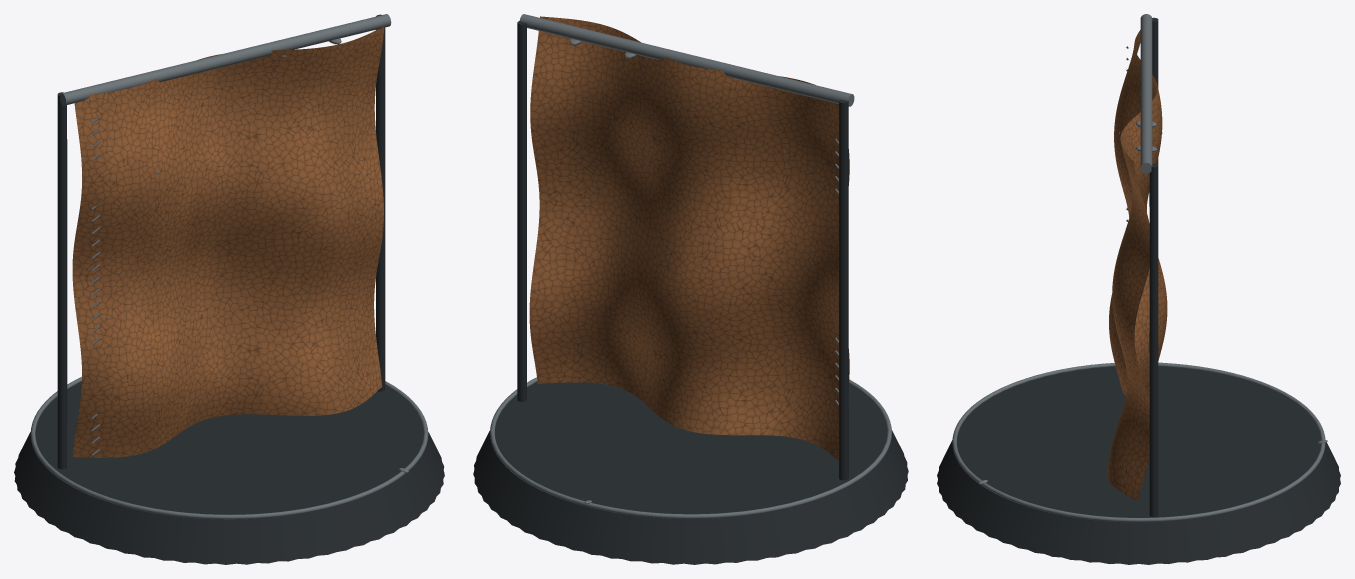
3 renders of one model, left to right at view 1: azimuth 30°, elevation 25°; view 2: azimuth 150°, elevation 25°; view 3: azimuth 270°, elevation 25°, orthographic. The views are drawn at different scales.
Parts seen in each view (by area): view 1: surface specimen, neutral specimen stand, specimen edge; view 2: surface specimen, neutral specimen stand, specimen edge; view 3: neutral specimen stand, surface specimen, specimen edge.
Part boxes in pixels (left/top/right/bottom): surface specimen: left=72, top=26, right=384, bottom=457; neutral specimen stand: left=14, top=14, right=444, bottom=564; specimen edge: left=30, top=14, right=428, bottom=519; surface specimen: left=529, top=16, right=849, bottom=460; neutral specimen stand: left=473, top=21, right=908, bottom=564; specimen edge: left=490, top=14, right=891, bottom=518; neutral specimen stand: left=937, top=17, right=1340, bottom=564; surface specimen: left=1107, top=30, right=1167, bottom=501; specimen edge: left=952, top=14, right=1325, bottom=522.
Size of the model in its own units: 0.539 by 0.576 by 0.539.
4 materials, 1 textured.
